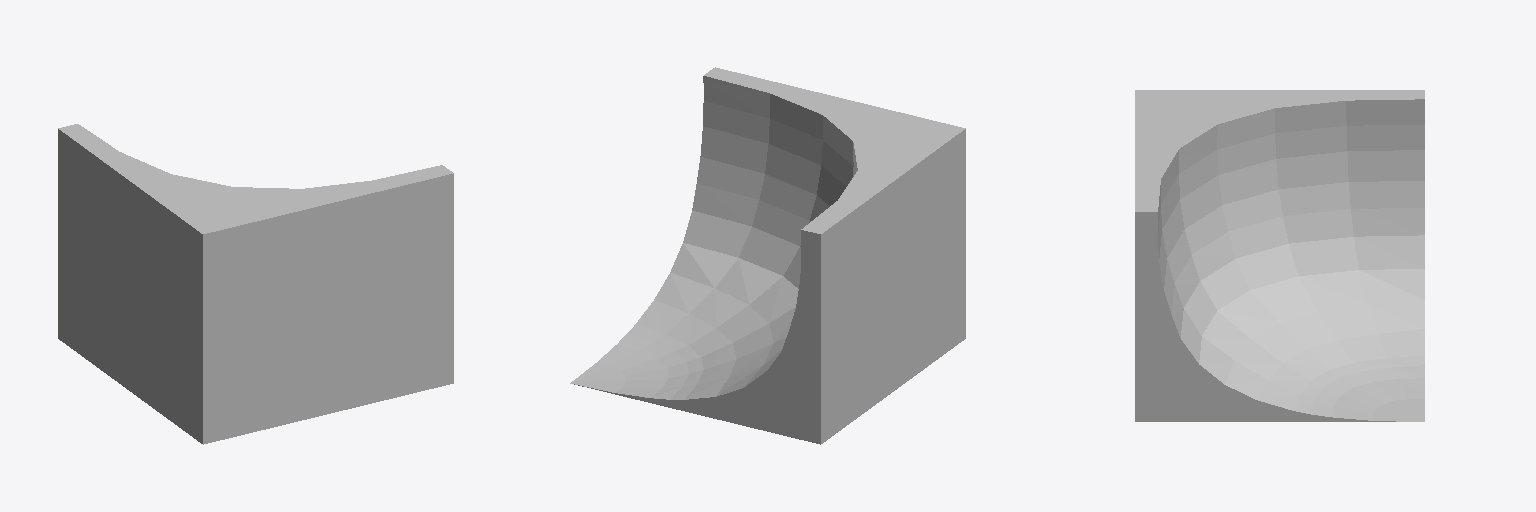
Rendered from Quater_SML_HighVert_Corner.obj.
3 views of the same model, side by side, from view 1: azimuth 30°, elevation 25°; view 2: azimuth 150°, elevation 25°; view 3: azimuth 270°, elevation 25° (orthographic).
Parts seen in each view (by area): view 1: Quater_SML_HighVert_Corner Quater_LRG_HighVert_Corner1; view 2: Quater_SML_HighVert_Corner Quater_LRG_HighVert_Corner1; view 3: Quater_SML_HighVert_Corner Quater_LRG_HighVert_Corner1.
Boxes of the visible parts, <box> form: Quater_SML_HighVert_Corner Quater_LRG_HighVert_Corner1: <box>58,124,453,444</box>; Quater_SML_HighVert_Corner Quater_LRG_HighVert_Corner1: <box>570,67,965,444</box>; Quater_SML_HighVert_Corner Quater_LRG_HighVert_Corner1: <box>1135,90,1424,421</box>.
Size of the model in its own units: 10 by 8 by 10.